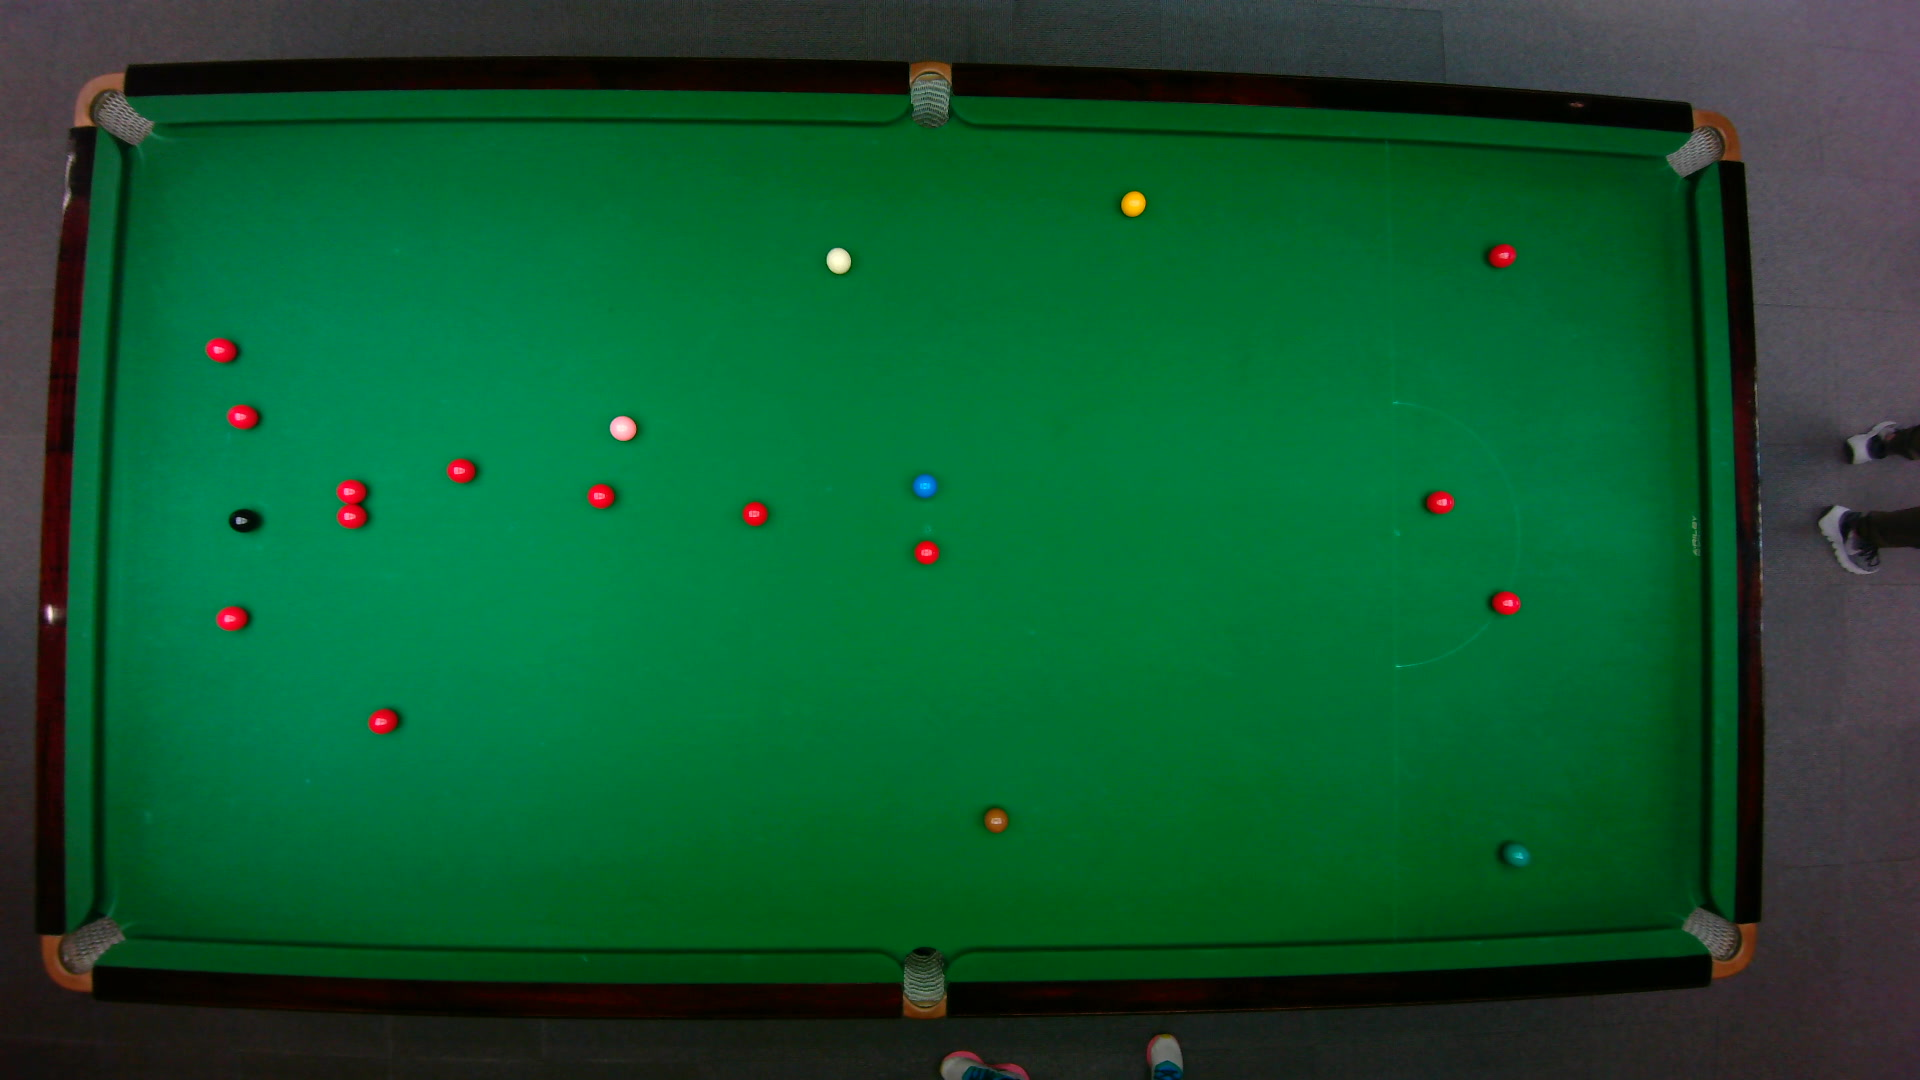bag: (38, 913, 127, 992), (71, 71, 156, 146), (1679, 906, 1758, 978), (1662, 108, 1741, 178), (901, 944, 945, 1019), (909, 61, 952, 131)
black: (225, 506, 262, 535)
blue: (910, 472, 939, 500)
brown: (981, 804, 1011, 835)
green: (1501, 840, 1534, 869)
pink: (607, 414, 640, 443)
red: (203, 336, 243, 365), (225, 402, 262, 433), (214, 604, 252, 633), (444, 456, 479, 487), (334, 504, 371, 531), (367, 705, 400, 736), (334, 477, 371, 504), (585, 483, 618, 512), (1490, 589, 1523, 617), (1423, 489, 1457, 516), (1486, 243, 1518, 269), (741, 500, 769, 527), (913, 539, 942, 566)
white: (824, 247, 853, 276)
yellow: (1120, 189, 1149, 219)
zone: (1390, 400, 1520, 669)
